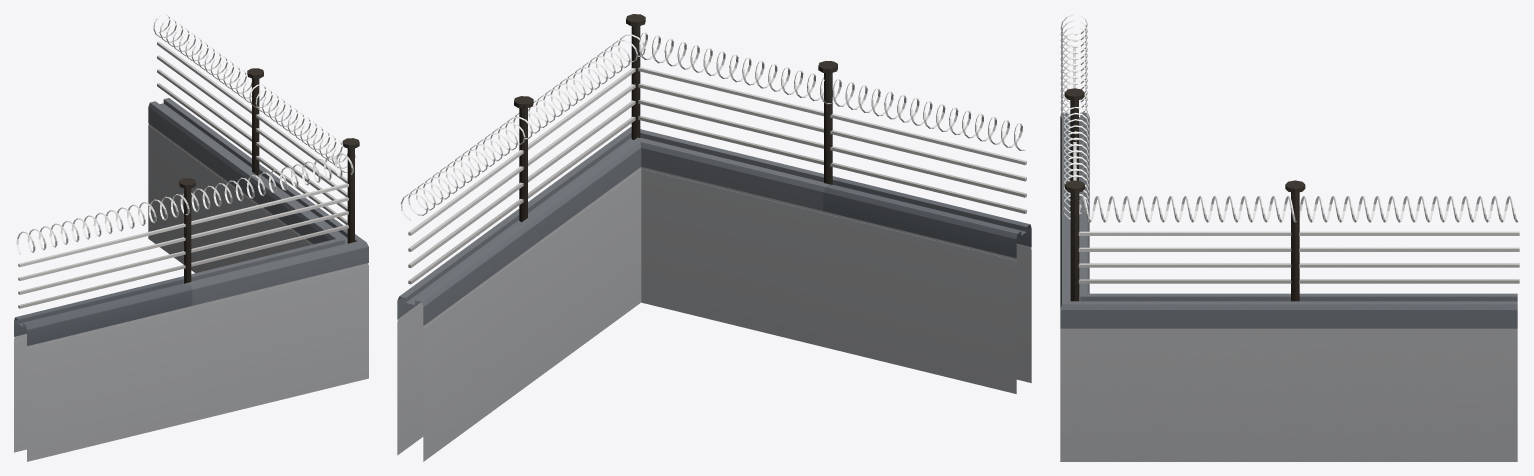
The model's file is valla 2.fbx.
3 renders of one model, left to right at view 1: azimuth 30°, elevation 25°; view 2: azimuth 150°, elevation 25°; view 3: azimuth 270°, elevation 25°, orthographic. The views are drawn at different scales.
Visible parts, largest first — view 1: Muro_curva1; view 2: Muro_curva1; view 3: Muro_curva1.
Boxes of the visible parts, box(x1,y1,x2,y2) form: Muro_curva1: box(14, 14, 368, 461); Muro_curva1: box(397, 14, 1031, 461); Muro_curva1: box(1060, 14, 1519, 461).
Size of the model in its own units: 3367 by 2200 by 3382.
